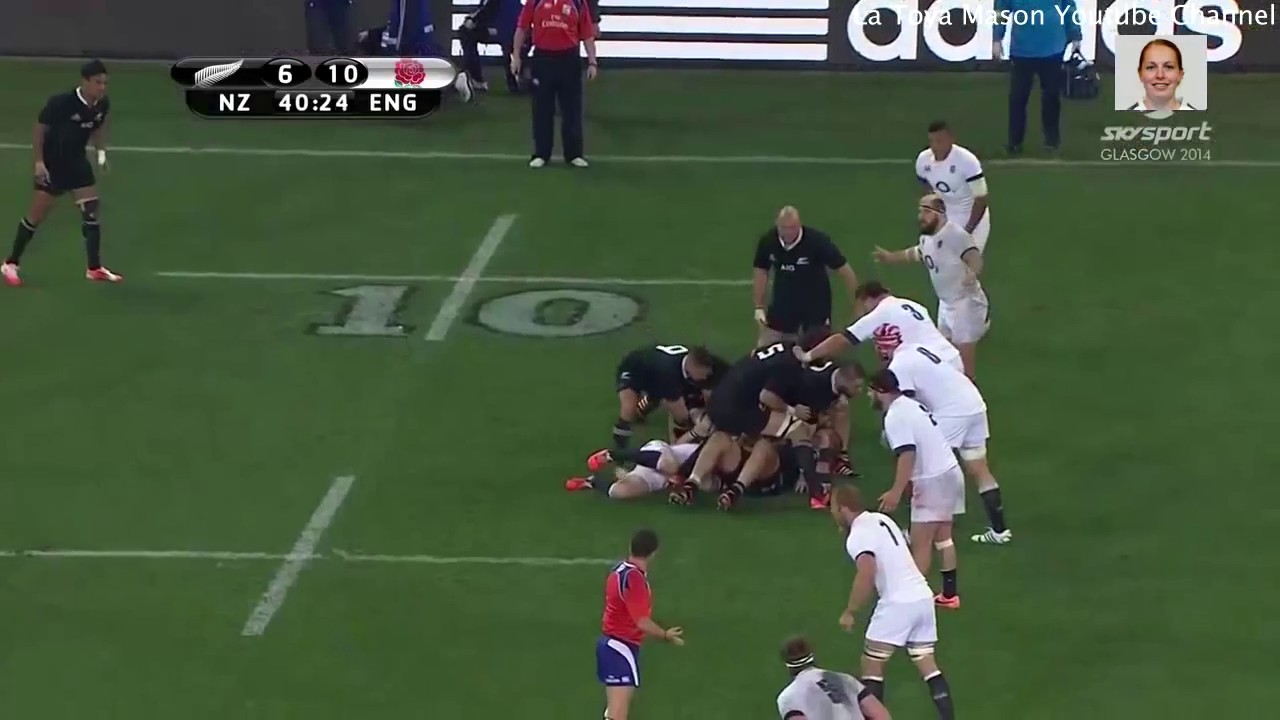10_metre: (1, 457, 647, 651), (148, 195, 826, 369)
player: (818, 471, 976, 720), (860, 317, 1024, 554), (852, 360, 977, 618), (1, 56, 133, 296), (865, 191, 1015, 402), (697, 319, 837, 516), (577, 512, 692, 720), (737, 184, 861, 365), (805, 267, 969, 375), (901, 104, 1007, 268), (547, 423, 715, 521), (606, 320, 725, 456), (744, 623, 898, 720)
